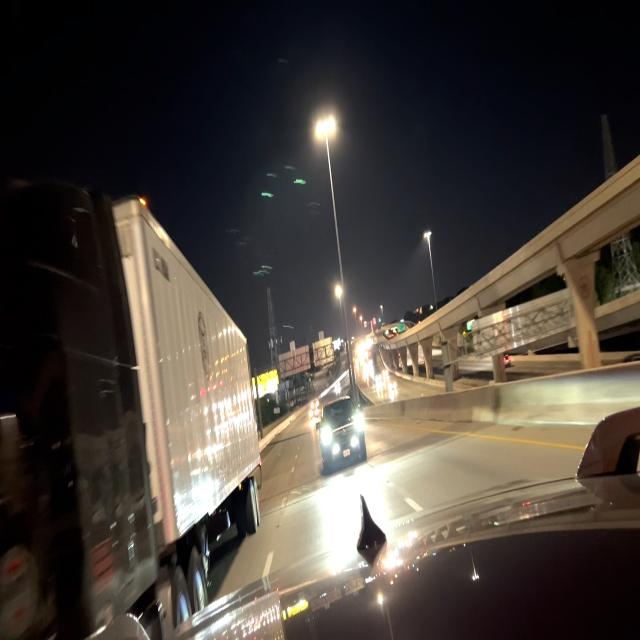back-of-sign: (471, 290, 575, 360), (278, 331, 335, 377)
